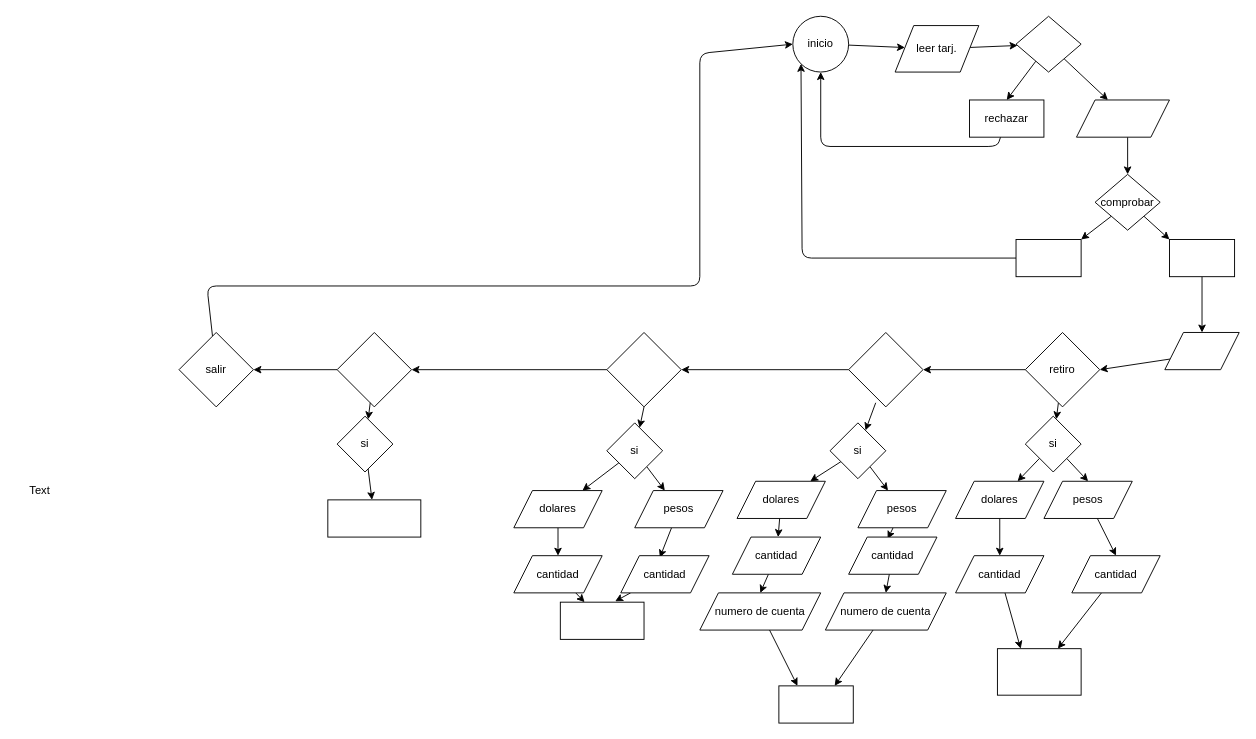
Some shapes in this 1256 by 739 pixel diagram are drawn without their labels. The shapes that lost their labels are listed below. From the top down, each one's centre as x and y in pixels, then its label:
At point (1048, 43): "pertenece?".
At point (1122, 118): "pedir pin".
At point (1048, 258): "incorrecto".
At point (1202, 258): "mostrar menu".
At point (374, 369): "consulta de saldo".
At point (643, 369): "ingreso".
At point (885, 369): "giro".
At point (1201, 351): "decision".
At point (374, 518): "saldo".
At point (601, 620): "ingresar".
At point (1038, 671): "retirar".
At point (815, 704): "enviar".
